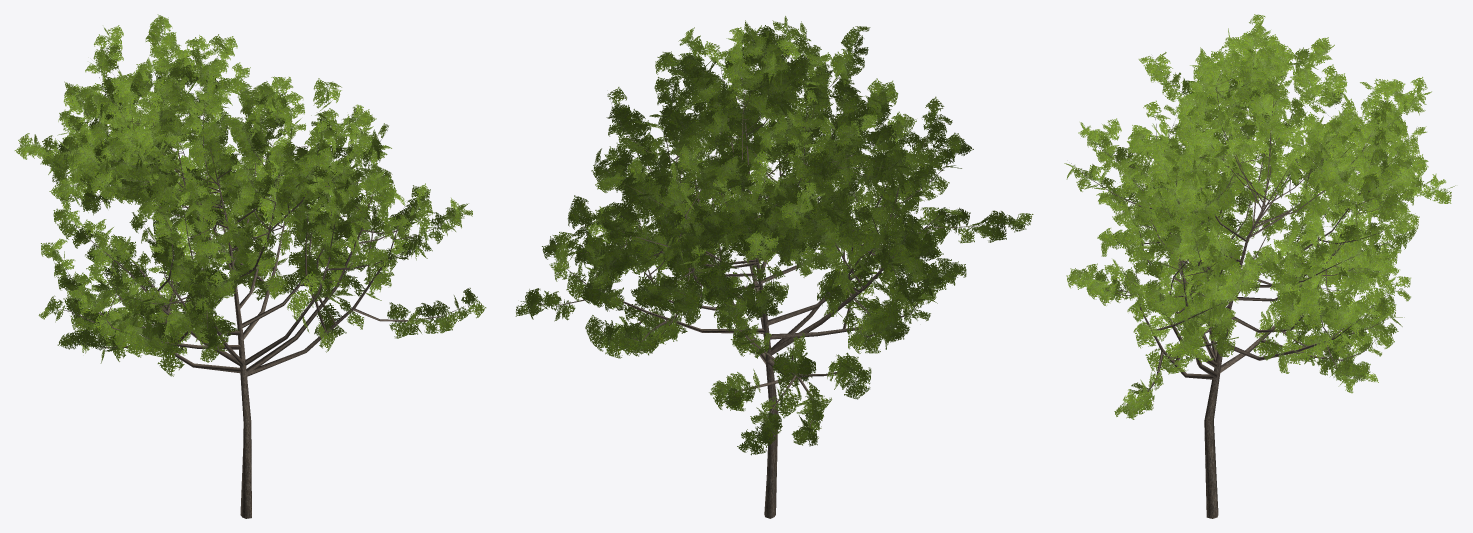
File: Arbol1.fbx
3 renders of one model, left to right at view 1: azimuth 30°, elevation 25°; view 2: azimuth 150°, elevation 25°; view 3: azimuth 270°, elevation 25°, orthographic. The views are drawn at different scales.
Visible parts, largest first — view 1: tree1; view 2: tree1; view 3: tree1.
Boxes of the visible parts, x1,y1,x2,y2 form: tree1: [14, 14, 486, 518]; tree1: [515, 16, 1033, 518]; tree1: [1064, 14, 1455, 518].
Bounding box in the file's own units: 1605 × 1884 × 1416.
2 materials, 2 textured.
